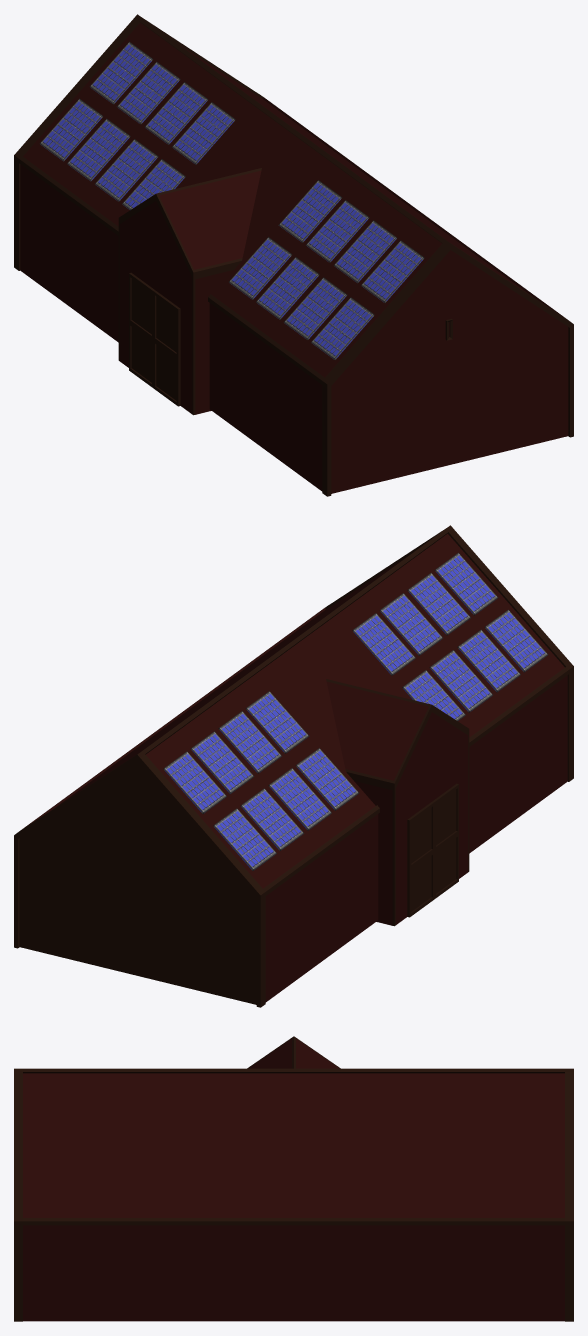
Rendered from Storehouse.fbx.
The picture shows the model from 3 angles, top to bottom: view 1: azimuth 30°, elevation 25°; view 2: azimuth 150°, elevation 25°; view 3: azimuth 270°, elevation 25°; orthographic projection. The views are drawn at different scales.
Visible parts, largest first — view 1: Storehouse; view 2: Storehouse; view 3: Storehouse.
Boxes of the visible parts, left/top/right/bottom form: Storehouse: left=14, top=14, right=573, bottom=496; Storehouse: left=14, top=525, right=573, bottom=1007; Storehouse: left=14, top=1036, right=573, bottom=1321.
Size of the model in its own units: 3219 by 2628 by 6621.
Materials: 3 (1 with a texture image).
